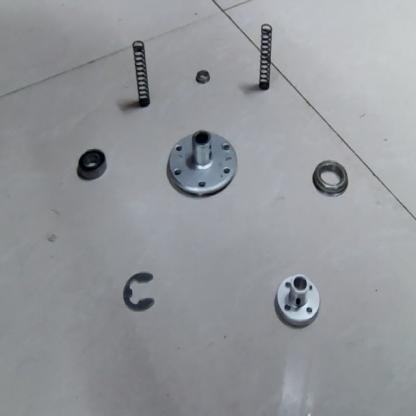FOD: (162, 126, 240, 201), (273, 270, 322, 327), (128, 37, 152, 110), (310, 159, 352, 199), (121, 269, 157, 314), (256, 22, 276, 92), (72, 147, 109, 182), (194, 66, 210, 86)
